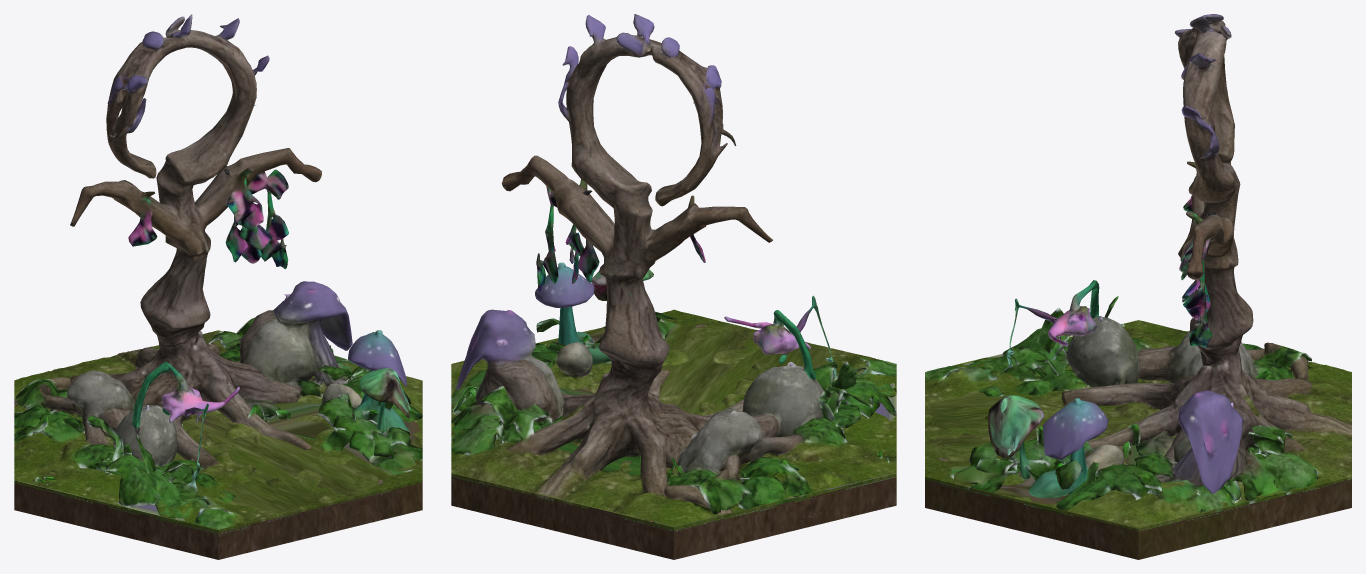
The model's file is hex_butterfly_glade.glb.
3 views of the same model, side by side, from view 1: azimuth 30°, elevation 25°; view 2: azimuth 150°, elevation 25°; view 3: azimuth 270°, elevation 25° (orthographic). The views are drawn at different scales.
Parts seen in each view (by area): view 1: hex_butterfly_glade_s11_fit; view 2: hex_butterfly_glade_s11_fit; view 3: hex_butterfly_glade_s11_fit.
Part boxes in pixels (<box>): hex_butterfly_glade_s11_fit: <box>14,14,422,559</box>; hex_butterfly_glade_s11_fit: <box>451,14,896,559</box>; hex_butterfly_glade_s11_fit: <box>925,14,1351,559</box>.
Size of the model in its own units: 5.11 by 5.05 by 4.42.
Materials: 1 (1 with a texture image).
